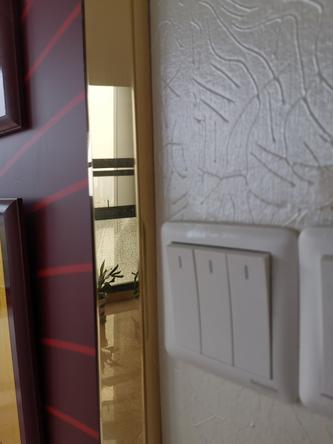switch: (221, 243, 279, 380), (190, 241, 238, 368), (164, 236, 203, 356)
